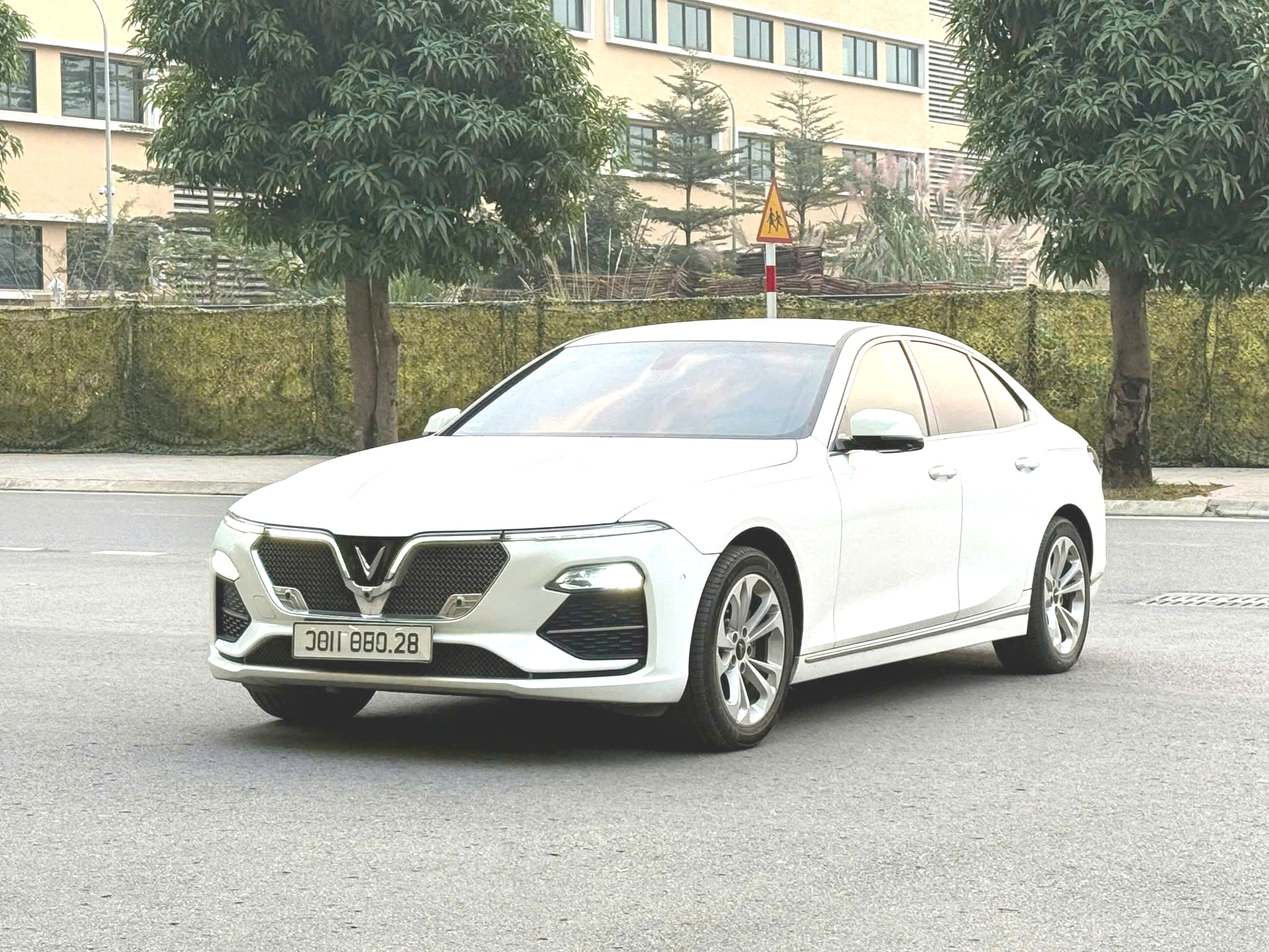Bien-so: (286, 628, 433, 672)
